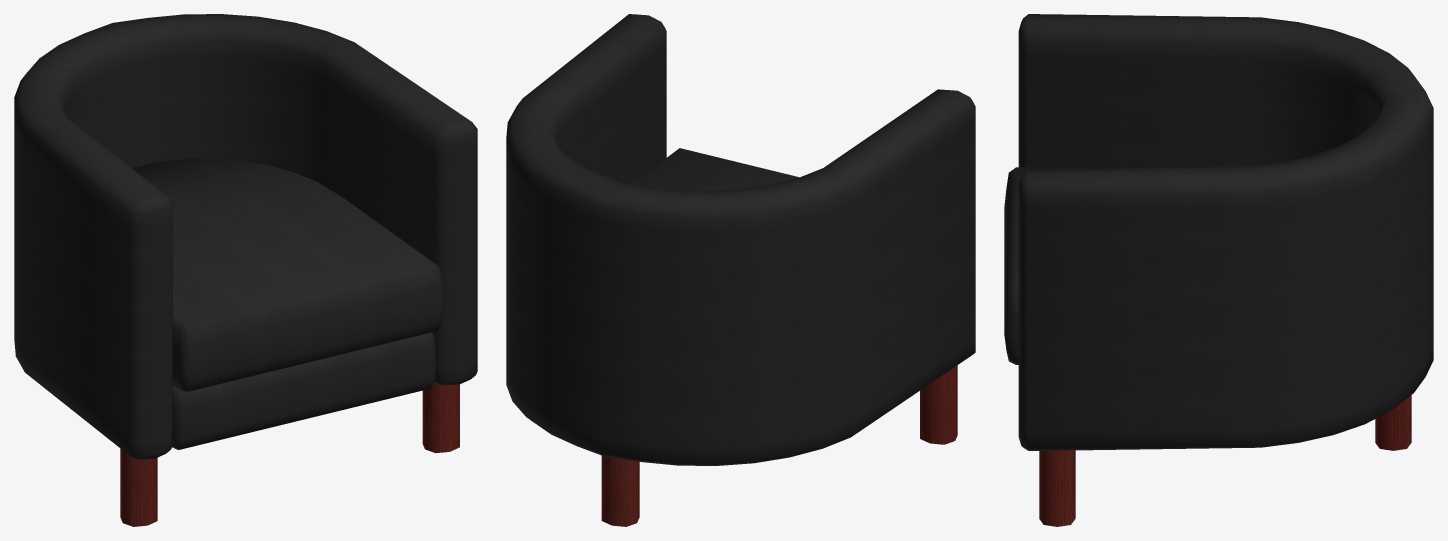
3 views of the same model, side by side, from view 1: azimuth 30°, elevation 25°; view 2: azimuth 150°, elevation 25°; view 3: azimuth 270°, elevation 25° (orthographic). The views are drawn at different scales.
Visible parts, largest first — view 1: Node; view 2: Node; view 3: Node.
Boxes of the visible parts, x1,y1,x2,y2 form: Node: [14, 14, 477, 526]; Node: [506, 14, 975, 526]; Node: [1004, 14, 1433, 526].
Bounding box in the file's own units: 0.7 × 0.6393 × 0.72.
Materials: 2 (2 with a texture image).
